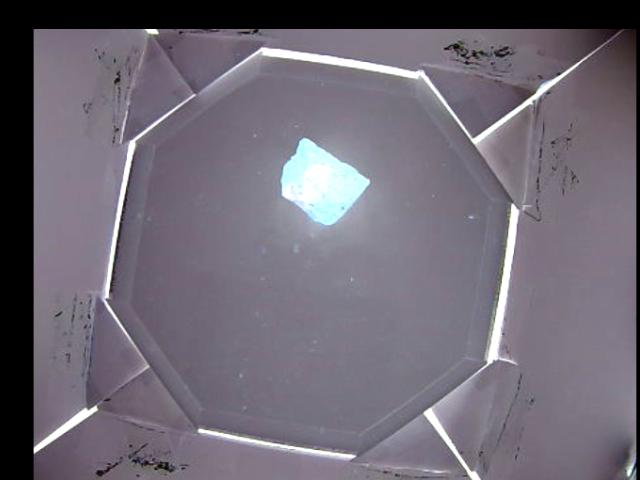Brisk: (283, 136, 367, 222)
